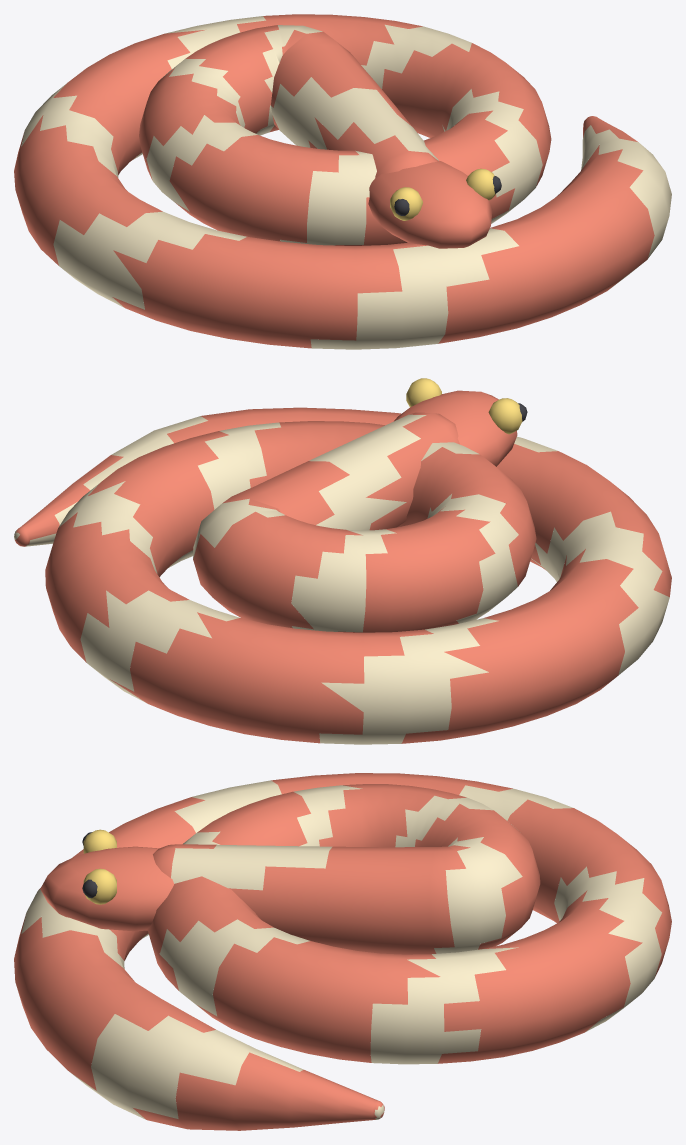
File: ran_ho_may.glb
3 views of the same model, one above another, from view 1: azimuth 30°, elevation 25°; view 2: azimuth 150°, elevation 25°; view 3: azimuth 270°, elevation 25° (orthographic). The views are drawn at different scales.
Visible parts, largest first — view 1: corn-snake; view 2: corn-snake; view 3: corn-snake.
Boxes of the visible parts, box(x1,y1,x2,y2) form: corn-snake: box(14, 14, 671, 349); corn-snake: box(14, 378, 671, 744); corn-snake: box(14, 773, 671, 1130).
Size of the model in its own units: 0.3618 by 0.1048 by 0.35.
